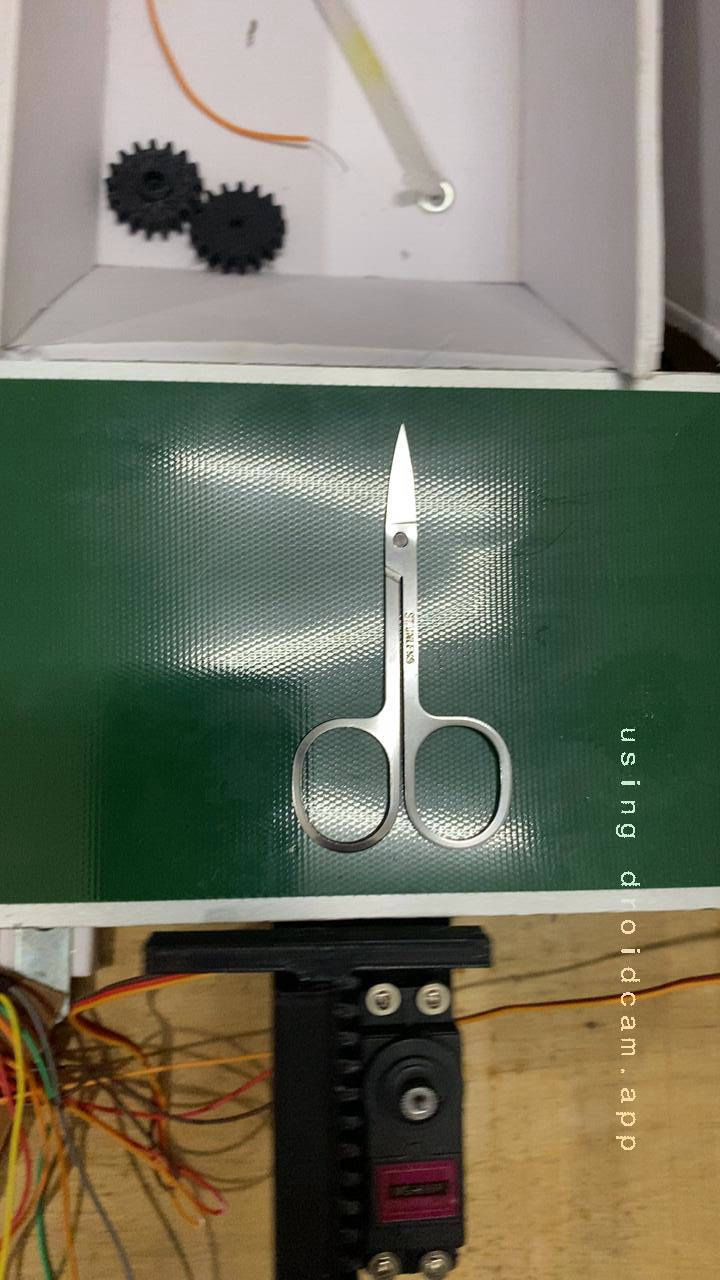scissor: (231, 412, 531, 875)
